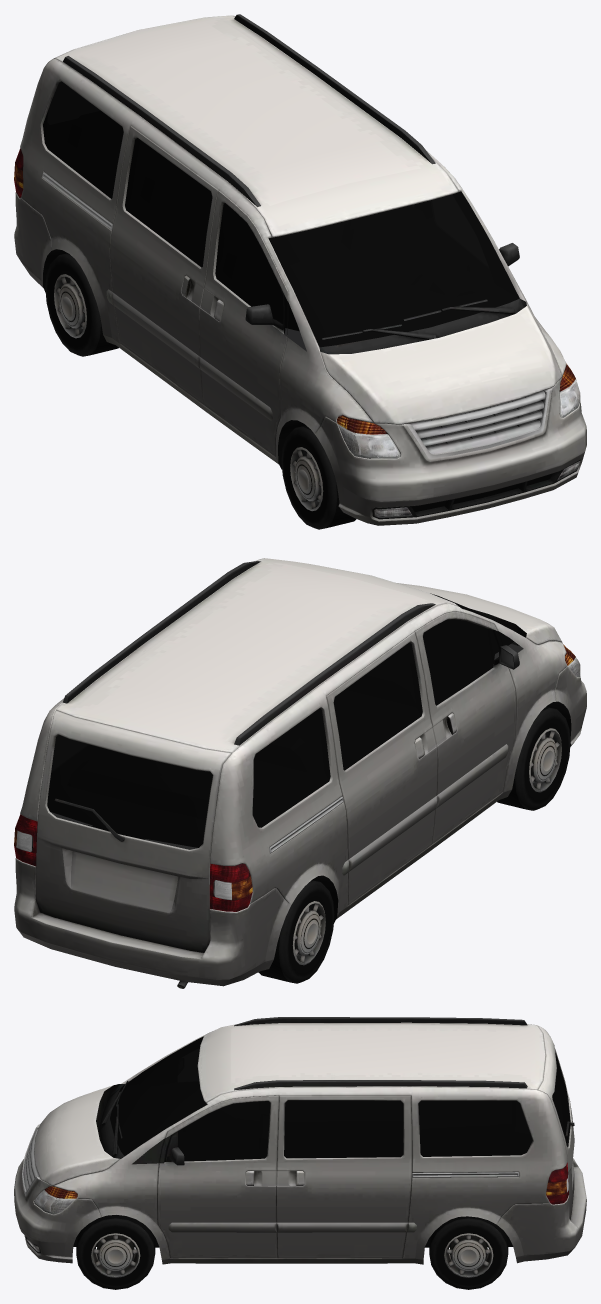
Rendered from delivery.glb.
The picture shows the model from 3 angles, top to bottom: view 1: azimuth 30°, elevation 25°; view 2: azimuth 150°, elevation 25°; view 3: azimuth 270°, elevation 25°; orthographic projection. The views are drawn at different scales.
Parts seen in each view (by area): view 1: body, wheel_fr, wheel_rr; view 2: body, wheel_rr, wheel_fr; view 3: body, wheel_fl, wheel_rl.
Part boxes in pixels (x1=…): body: x1=14, y1=14, x2=586, y2=525; wheel_fr: x1=281, y1=425, x2=356, y2=529; wheel_rr: x1=45, y1=253, x2=118, y2=356; body: x1=14, y1=558, x2=586, y2=988; wheel_rr: x1=258, y1=880, x2=334, y2=983; wheel_fr: x1=497, y1=706, x2=570, y2=810; body: x1=14, y1=1017, x2=586, y2=1264; wheel_fl: x1=76, y1=1215, x2=155, y2=1289; wheel_rl: x1=429, y1=1216, x2=508, y2=1289.
Bounding box in the file's own units: 1.99 × 1.87 × 4.9.
Materials: 4 (3 with a texture image).
